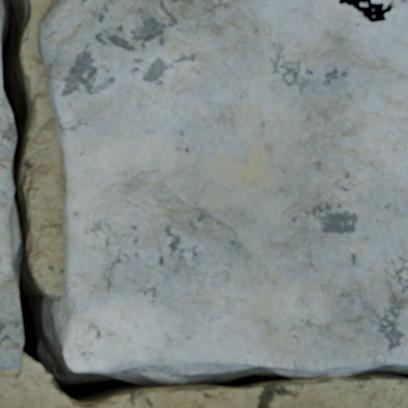brick: (38, 0, 407, 374), (0, 62, 22, 369), (372, 0, 389, 5), (0, 0, 2, 35)
crack: (0, 0, 407, 405), (338, 0, 395, 23)
